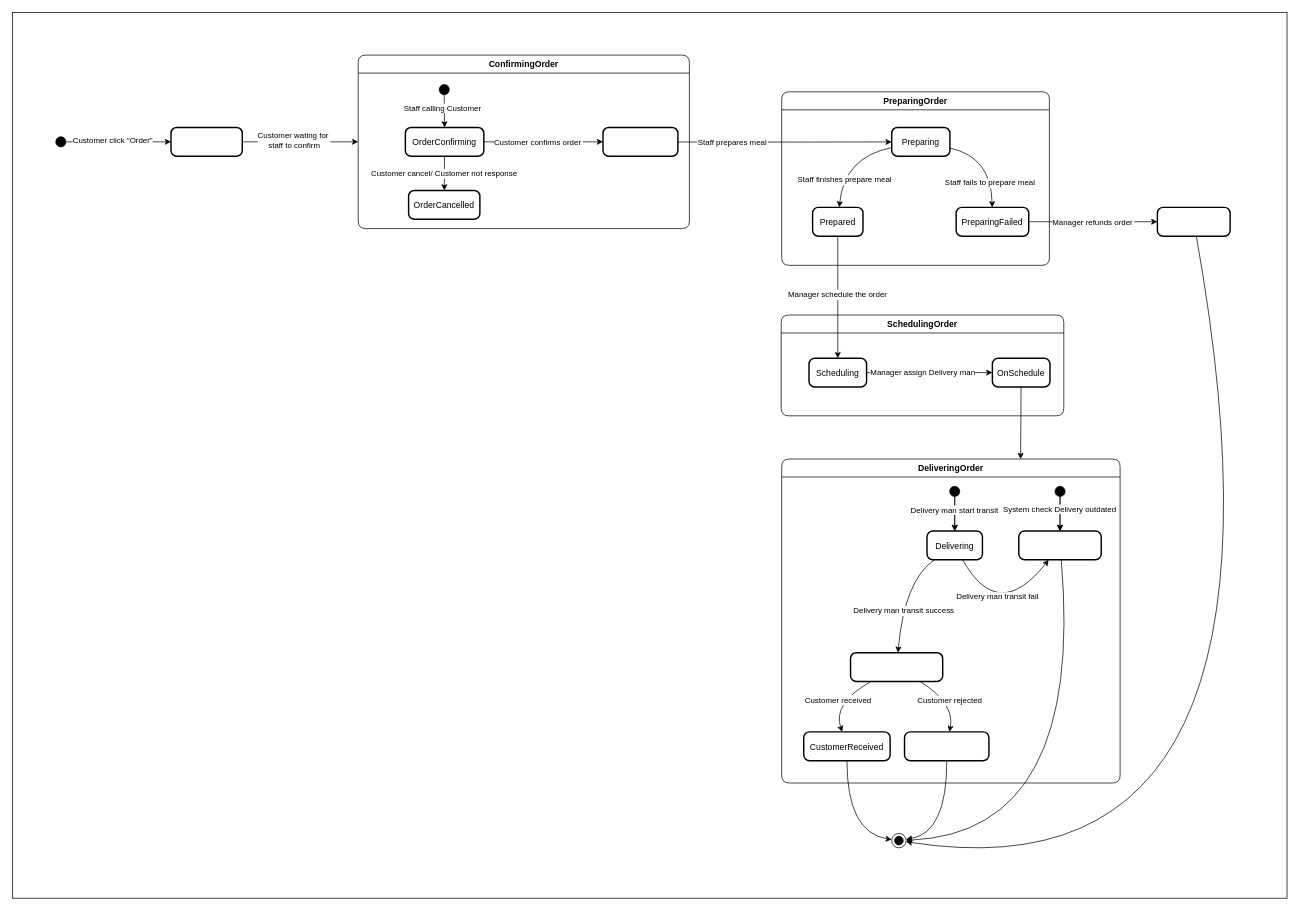
Some shapes in this 1300 by 911 pixel diagram are drawn without their labels. The shapes that lost their labels are listed below. From the top down, each one's centre as x and y in pixels, then its label:
pixel 206 141: OrderPending
pixel 640 141: OrderConfirmed
pixel 1193 221: OrderRefunded
pixel 1060 545: DeliveryFailed
pixel 896 667: DeliverySuccessful
pixel 946 746: CustomerRejected
